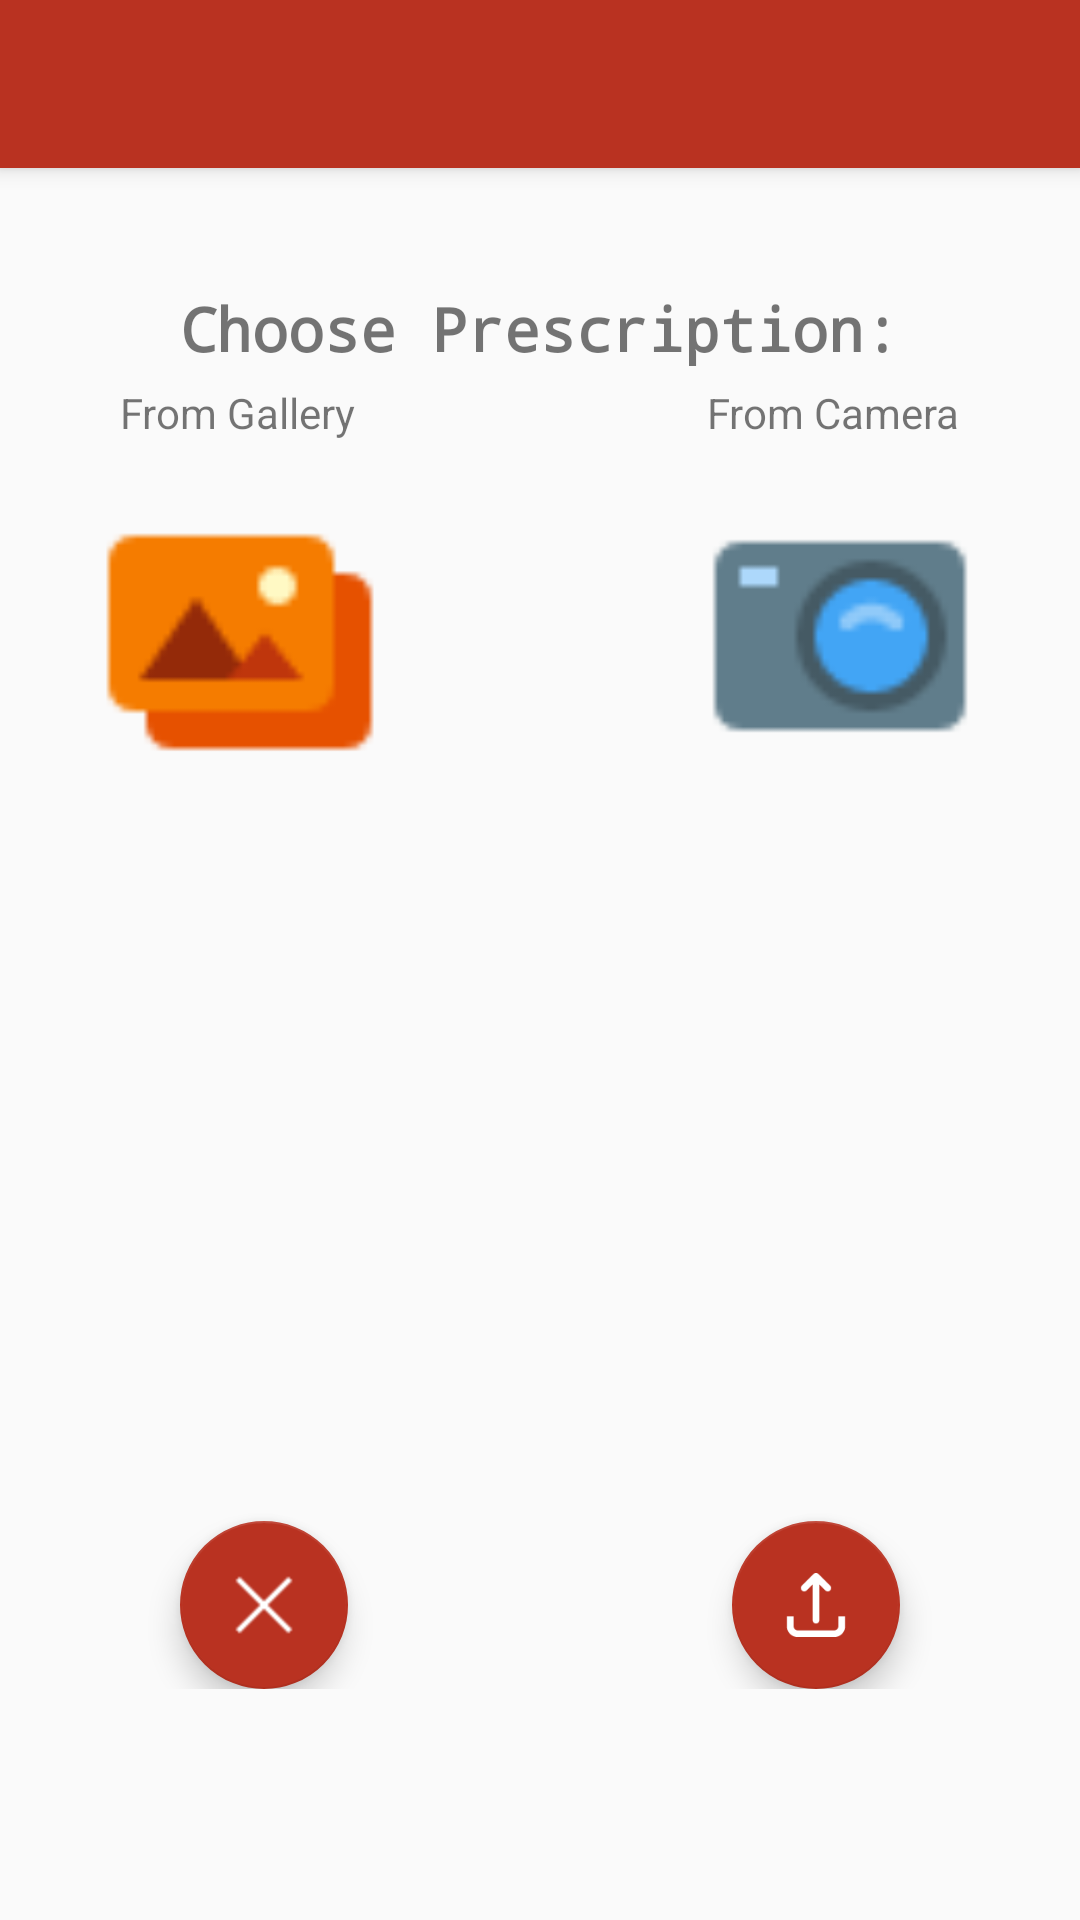

Icon click points for this 1080px×1920px phone screenshot, format point (x, y):
close: point (264, 1605)
upload: point (816, 1605)
